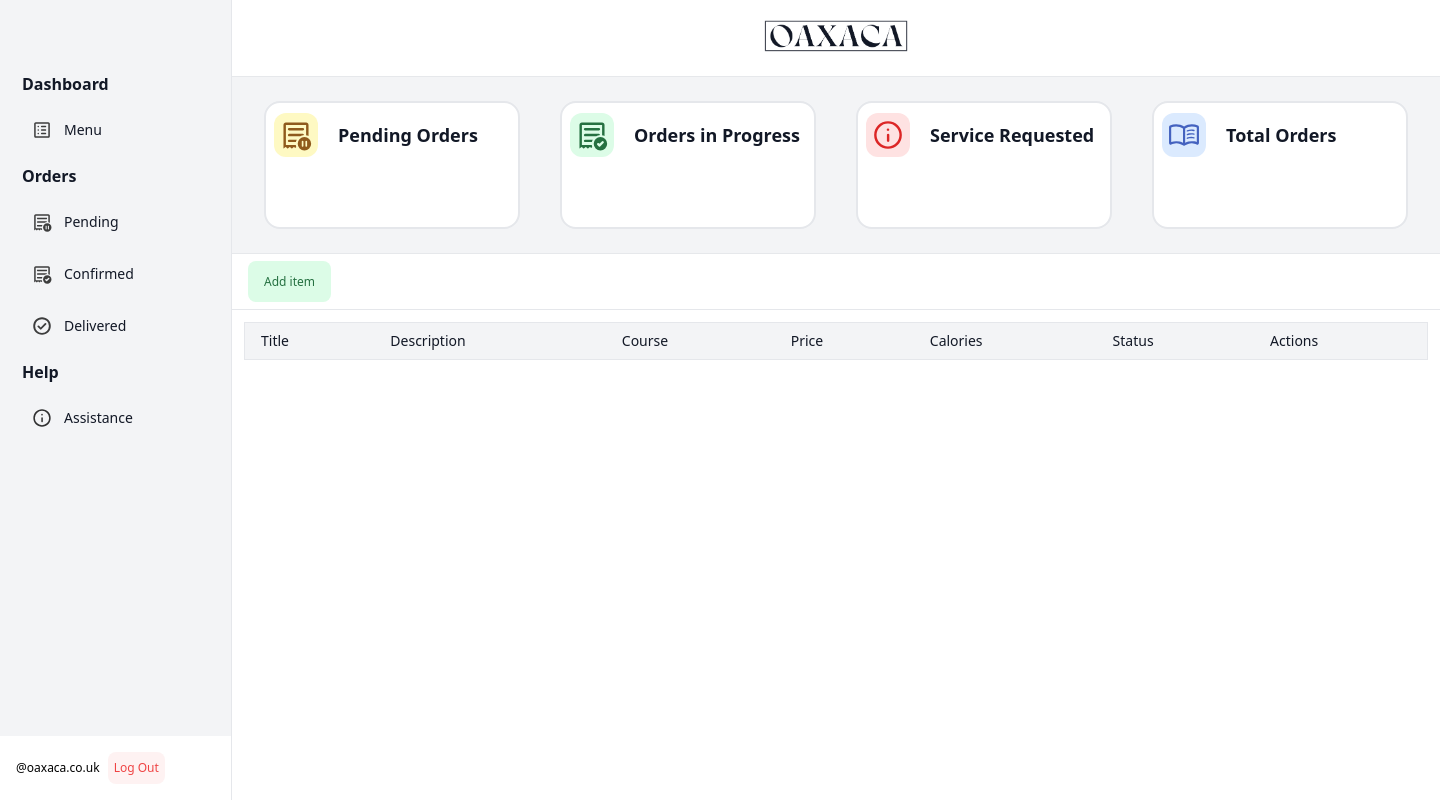
Test clicking on Delivered (orders) button › Should navigate to Delivered orders section and display the correct information of orders
The image size is (1440, 800).
Note: delivered button
Click the link "Delivered": (79, 326) left=32, top=316, right=126, bottom=336
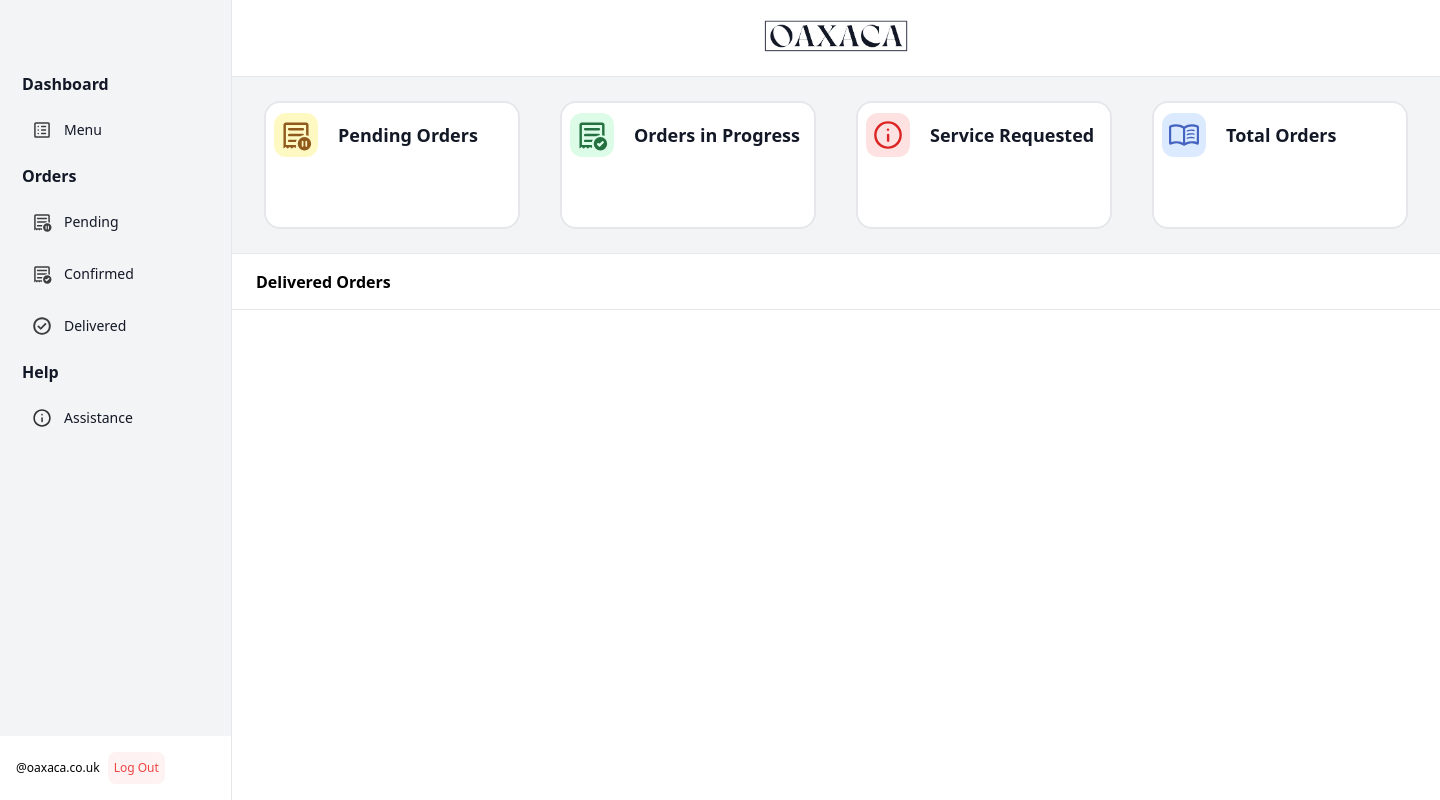
Expected: the heading "Delivered Orders" is shown, left=256, top=271, right=391, bottom=293
